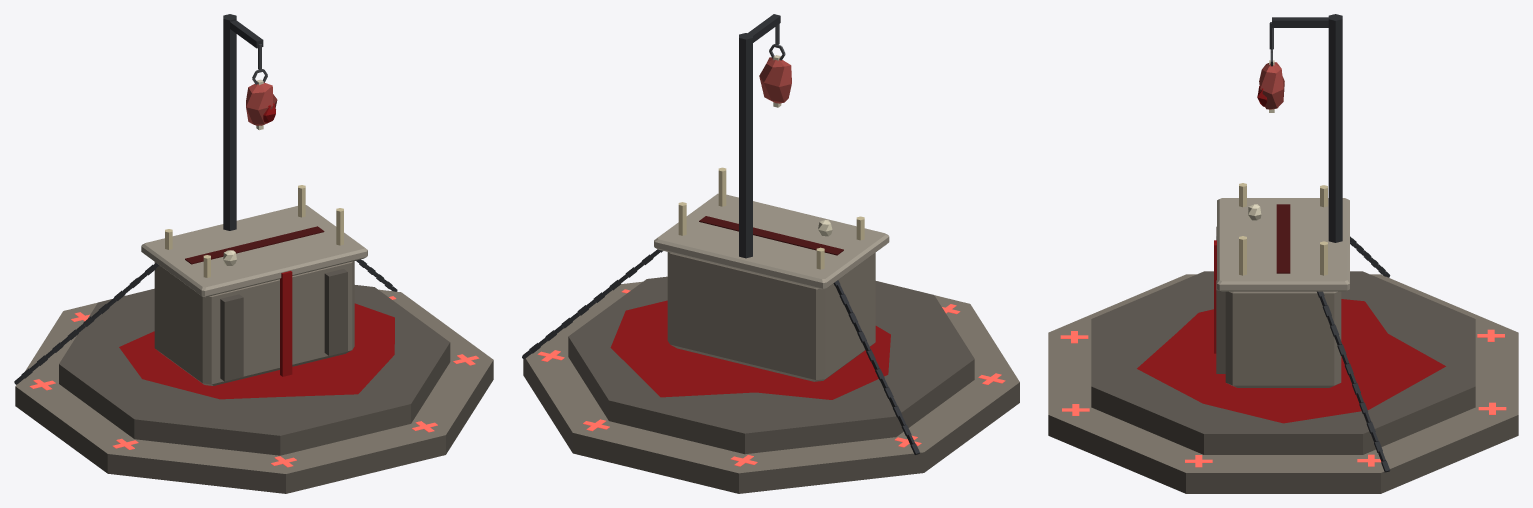
File: SM_Rocca_Altare.glb
3 renders of one model, left to right at view 1: azimuth 30°, elevation 25°; view 2: azimuth 150°, elevation 25°; view 3: azimuth 270°, elevation 25°, orthographic. The views are drawn at different scales.
Visible parts, largest first — view 1: SM_Rocca_Altare, Altar_Pool, Altar_Drip, Altar_Meat, Altar_Runes; view 2: SM_Rocca_Altare, Altar_Pool, Altar_Meat, Altar_Runes; view 3: SM_Rocca_Altare, Altar_Pool, Altar_Meat, Altar_Runes.
Boxes of the visible parts, <box> form: SM_Rocca_Altare: <box>14,14,493,493</box>; Altar_Pool: <box>119,303,394,399</box>; Altar_Drip: <box>280,271,292,376</box>; Altar_Meat: <box>246,79,277,130</box>; Altar_Runes: <box>29,296,479,467</box>; SM_Rocca_Altare: <box>522,14,1019,493</box>; Altar_Pool: <box>610,300,890,399</box>; Altar_Meat: <box>759,55,791,107</box>; Altar_Runes: <box>537,289,1005,466</box>; SM_Rocca_Altare: <box>1048,14,1518,493</box>; Altar_Pool: <box>1137,299,1445,423</box>; Altar_Meat: <box>1257,60,1284,112</box>; Altar_Runes: <box>1060,329,1506,467</box>.
Size of the model in its own units: 4.07 by 3.6 by 4.07.
Materials: 1 (1 with a texture image).
